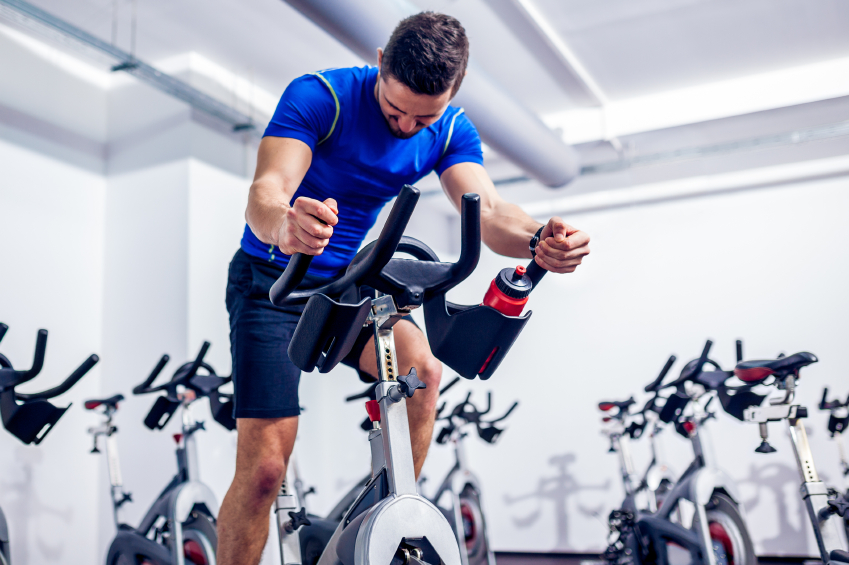gym_bike: (225, 203, 522, 565)
